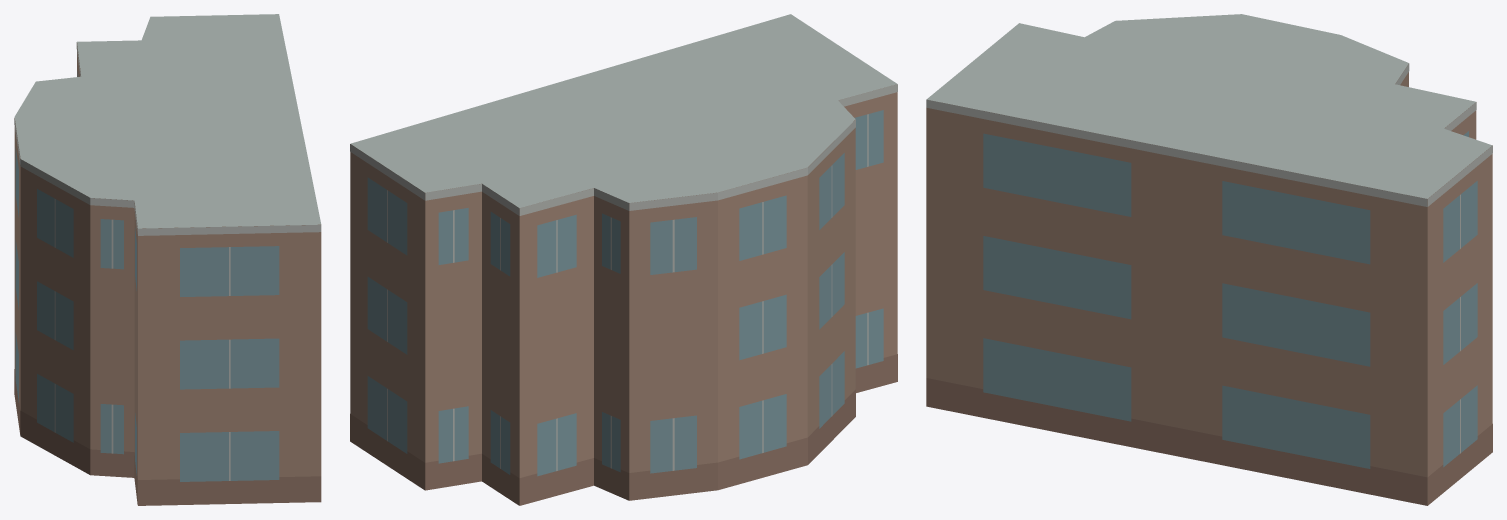
The model's file is survey-upis-32705004.glb.
3 views of the same model, side by side, from view 1: azimuth 30°, elevation 25°; view 2: azimuth 150°, elevation 25°; view 3: azimuth 270°, elevation 25° (orthographic). The views are drawn at different scales.
Visible parts, largest first — view 1: survey-upis-32705004.tmp; view 2: survey-upis-32705004.tmp; view 3: survey-upis-32705004.tmp.
Part boxes in pixels (x1,y1,x2,y2): survey-upis-32705004.tmp: [14, 14, 321, 505]; survey-upis-32705004.tmp: [350, 14, 897, 505]; survey-upis-32705004.tmp: [926, 14, 1492, 505].
Size of the model in its own units: 11.83 by 9.15 by 15.31.
